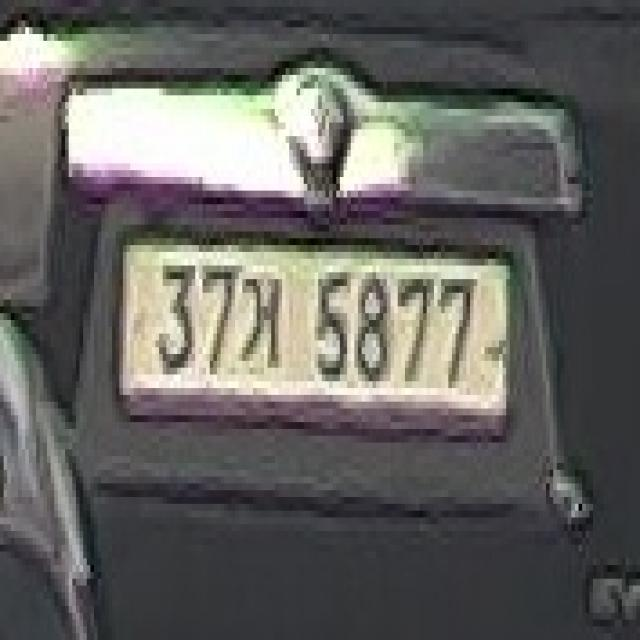3: (159, 259, 199, 374)
5: (314, 266, 350, 381)
7: (434, 272, 481, 388), (195, 259, 239, 374), (394, 272, 434, 395)
8: (354, 273, 390, 382)
geo: (238, 279, 286, 368)
license_plate: (116, 231, 517, 436)
